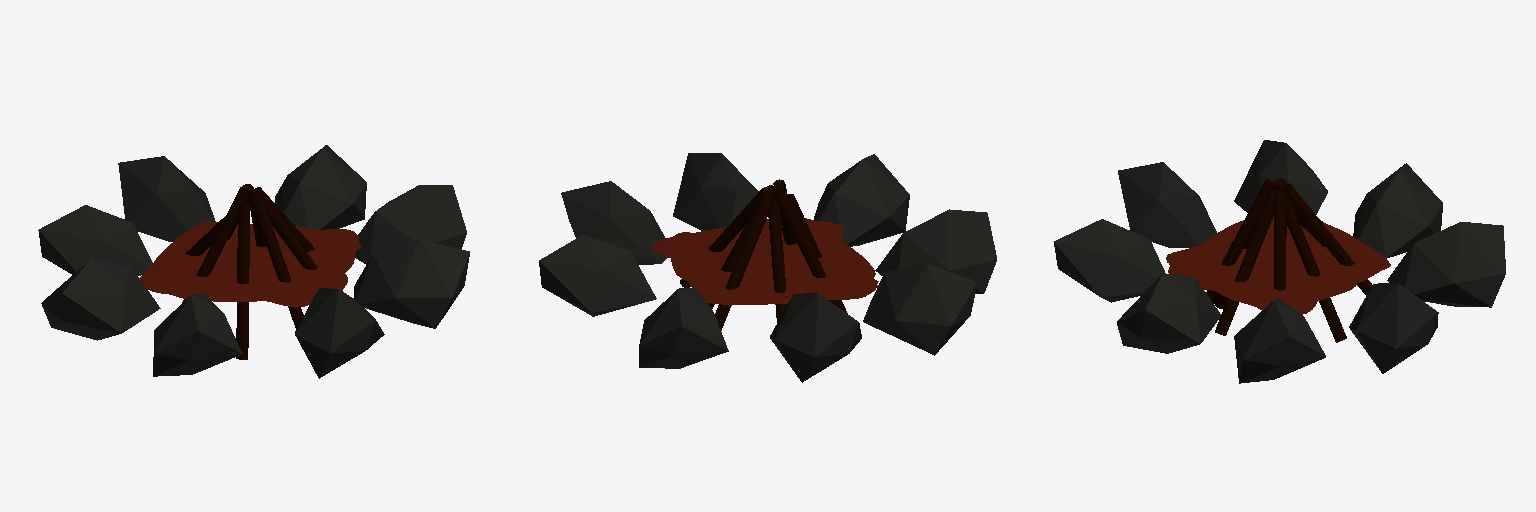
Rendered from campfire.obj.
3 views of the same model, side by side, from view 1: azimuth 30°, elevation 25°; view 2: azimuth 150°, elevation 25°; view 3: azimuth 270°, elevation 25° (orthographic).
Parts seen in each view (by area): view 1: Sphere, Icosphere.008_Icosphere.009, Icosphere.005_Icosphere.006, Icosphere.003_Icosphere.004, Icosphere.007_Icosphere.008, Icosphere_Icosphere.001, Icosphere.004_Icosphere.005, Icosphere.002_Icosphere.003, Icosphere.006_Icosphere.007, Cylinder.001_Cylinder.006, Cylinder.005_Cylinder.013, Cylinder.004_Cylinder.012 (+1 smaller); view 2: Sphere, Icosphere.005_Icosphere.006, Icosphere.007_Icosphere.008, Icosphere.006_Icosphere.007, Icosphere.002_Icosphere.003, Icosphere.004_Icosphere.005, Icosphere.003_Icosphere.004, Icosphere_Icosphere.001, Icosphere.008_Icosphere.009, Cylinder.007_Cylinder.015, Cylinder.004_Cylinder.012, Cylinder.002_Cylinder.010 (+1 smaller); view 3: Sphere, Icosphere.003_Icosphere.004, Icosphere.006_Icosphere.007, Icosphere.002_Icosphere.003, Icosphere.008_Icosphere.009, Icosphere.004_Icosphere.005, Icosphere.007_Icosphere.008, Icosphere_Icosphere.001, Icosphere.005_Icosphere.006, Cylinder.000_Cylinder.009, Cylinder.003_Cylinder.011, Cylinder.007_Cylinder.015 (+2 smaller).
Boxes of the visible parts, <box> form: Sphere: <box>140,221,361,307</box>; Icosphere.008_Icosphere.009: <box>354,240,469,328</box>; Icosphere.005_Icosphere.006: <box>41,259,160,340</box>; Icosphere.003_Icosphere.004: <box>118,156,215,241</box>; Icosphere.007_Icosphere.008: <box>275,145,366,229</box>; Icosphere_Icosphere.001: <box>355,185,466,264</box>; Icosphere.004_Icosphere.005: <box>38,205,152,275</box>; Icosphere.002_Icosphere.003: <box>153,294,242,376</box>; Icosphere.006_Icosphere.007: <box>295,288,384,378</box>; Cylinder.001_Cylinder.006: <box>236,204,249,359</box>; Cylinder.005_Cylinder.013: <box>248,189,303,328</box>; Cylinder.004_Cylinder.012: <box>182,187,249,302</box>; Sphere: <box>652,218,878,304</box>; Icosphere.005_Icosphere.006: <box>863,264,977,355</box>; Icosphere.007_Icosphere.008: <box>539,235,656,316</box>; Icosphere.006_Icosphere.007: <box>814,154,909,246</box>; Icosphere.002_Icosphere.003: <box>875,209,996,293</box>; Icosphere.004_Icosphere.005: <box>770,293,861,382</box>; Icosphere.003_Icosphere.004: <box>639,287,728,368</box>; Icosphere_Icosphere.001: <box>561,181,668,264</box>; Icosphere.008_Icosphere.009: <box>673,153,758,230</box>; Cylinder.007_Cylinder.015: <box>715,191,774,330</box>; Cylinder.004_Cylinder.012: <box>772,187,844,311</box>; Cylinder.002_Cylinder.010: <box>768,199,787,322</box>; Sphere: <box>1166,216,1390,314</box>; Icosphere.003_Icosphere.004: <box>1387,222,1505,307</box>; Icosphere.006_Icosphere.007: <box>1054,219,1165,302</box>; Icosphere.002_Icosphere.003: <box>1118,162,1216,247</box>; Icosphere.008_Icosphere.009: <box>1117,273,1221,353</box>; Icosphere.004_Icosphere.005: <box>1353,163,1442,258</box>; Icosphere.007_Icosphere.008: <box>1349,283,1438,373</box>; Icosphere_Icosphere.001: <box>1234,298,1325,383</box>; Icosphere.005_Icosphere.006: <box>1234,140,1327,214</box>; Cylinder.000_Cylinder.009: <box>1215,188,1279,335</box>; Cylinder.003_Cylinder.011: <box>1286,195,1346,342</box>; Cylinder.007_Cylinder.015: <box>1282,183,1371,295</box>.
Size of the model in its own units: 2.25 by 0.7744 by 2.18.